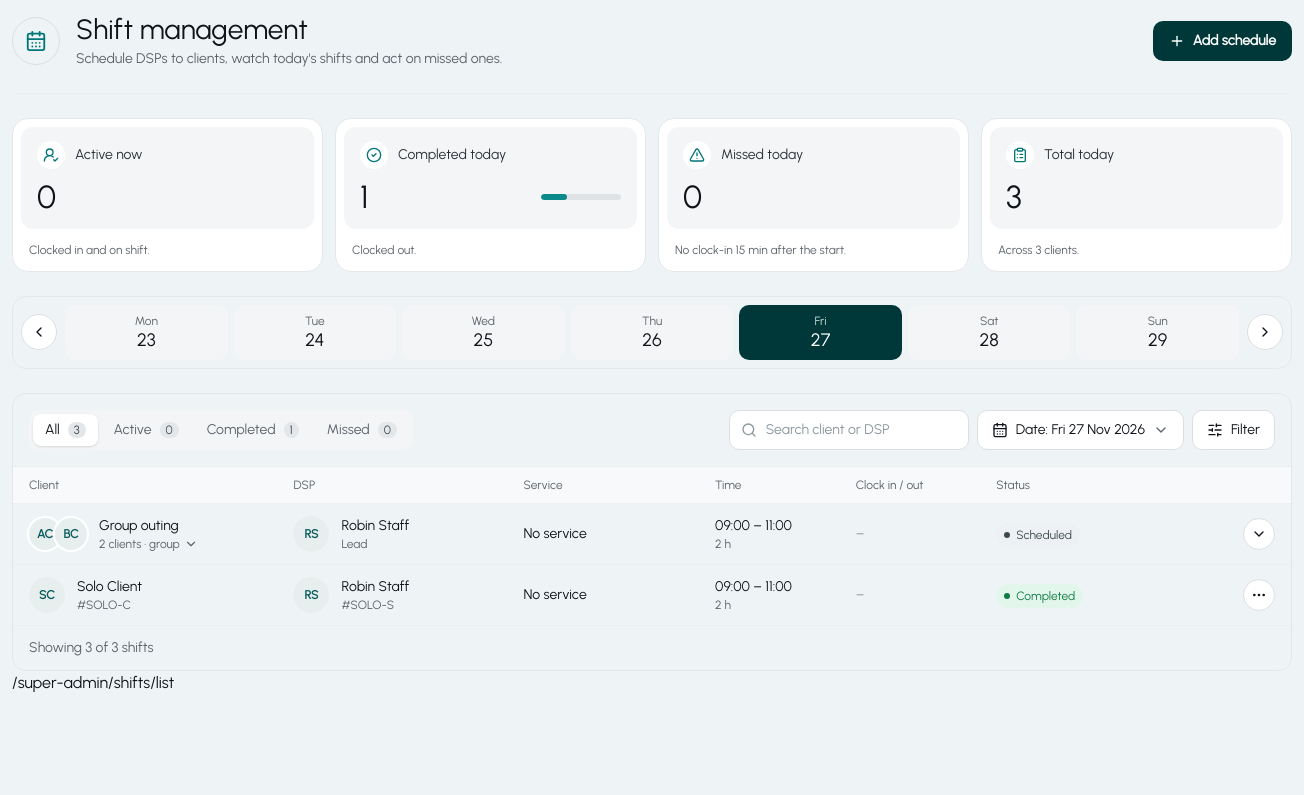
shared operational shift pages › loads the selected week and shows a group outing as one row with its clients inside
The width and height of the screenshot is (1304, 795).
Expected: the text "2 clients · group" is shown, left=99, top=536, right=198, bottom=552
Expected: the text "Ava Client" is not shown
Click the button named "Show the clients on Group outing" at (1259, 534), box left=1243, top=518, right=1275, bottom=550
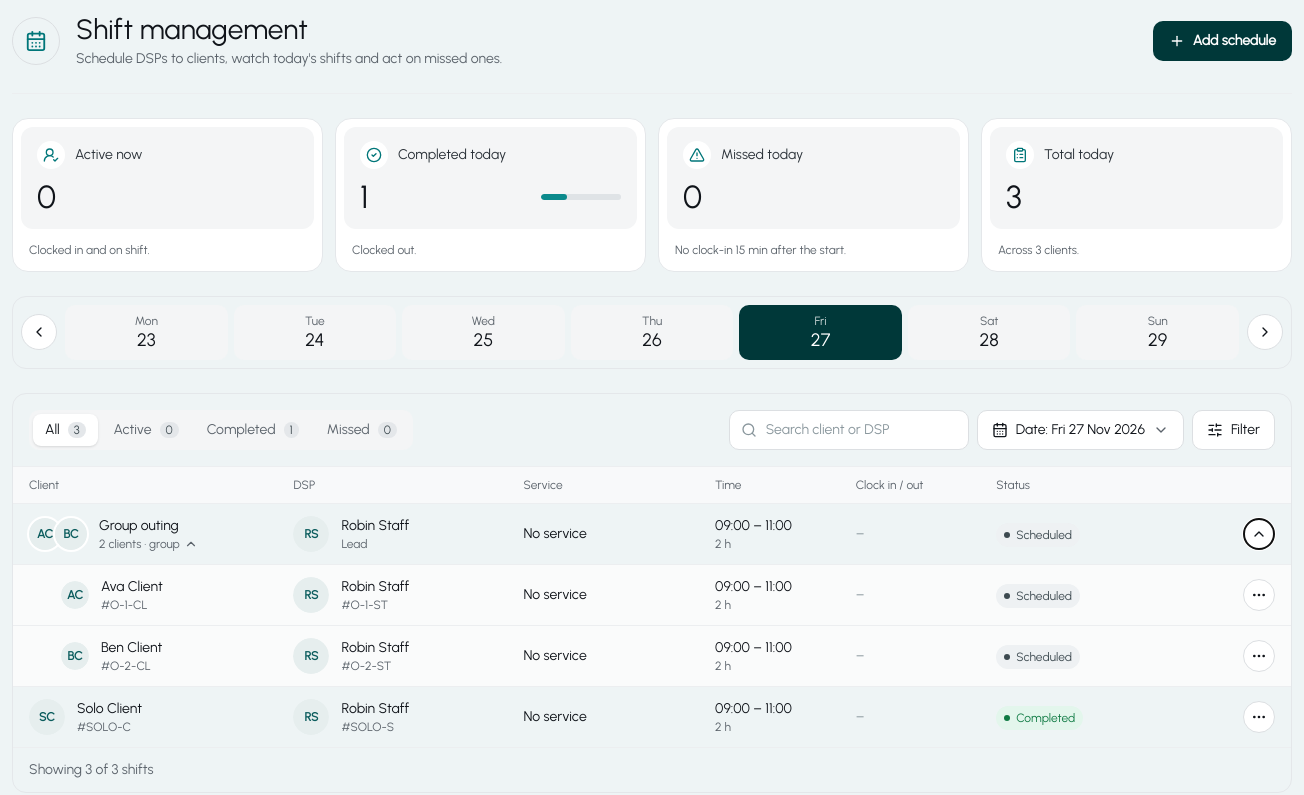
Expected: the text "Ava Client" is shown, left=101, top=576, right=163, bottom=596
Expected: the text "Ben Client" is shown, left=101, top=638, right=162, bottom=658
Click the tab "Completed 1" at (253, 430), box left=195, top=414, right=311, bottom=446
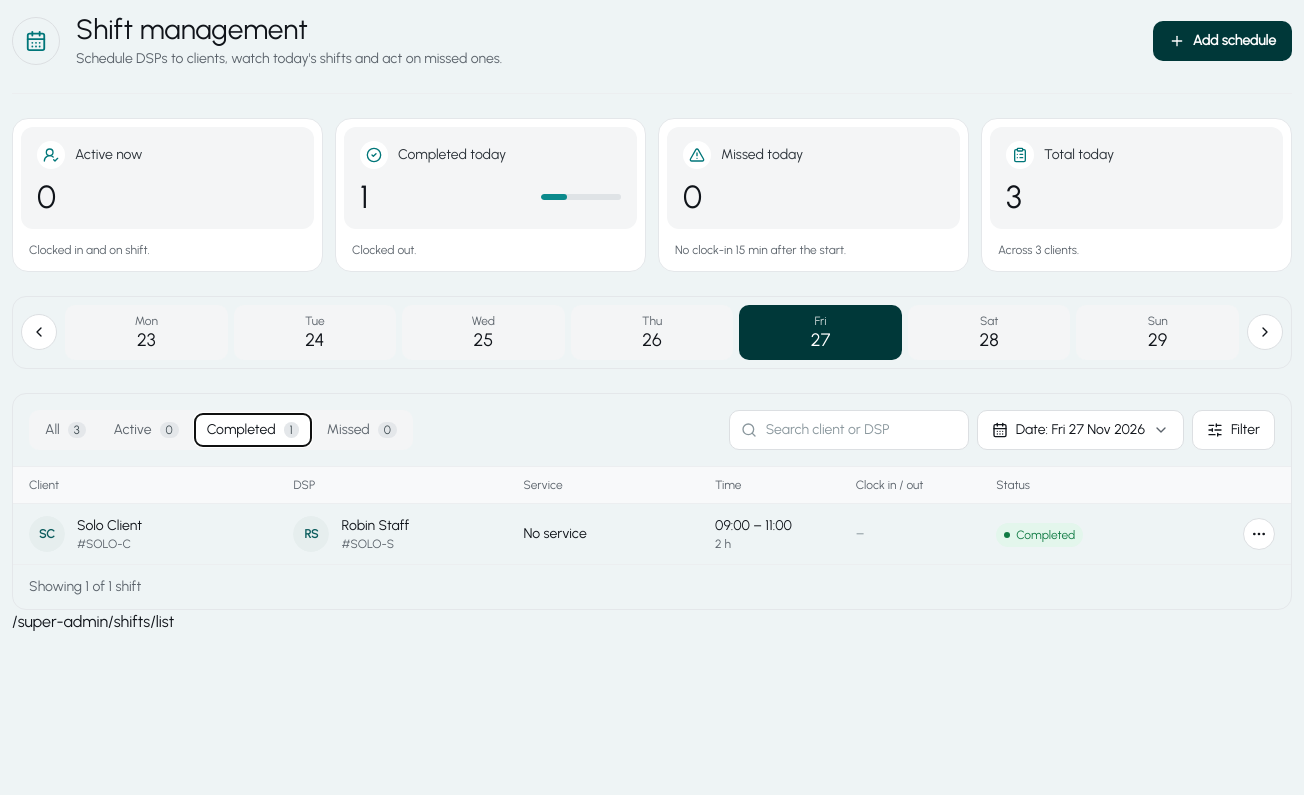
Expected: the text "Solo Client" is shown, left=77, top=516, right=142, bottom=536
Expected: the button "2 clients · group" is gone
